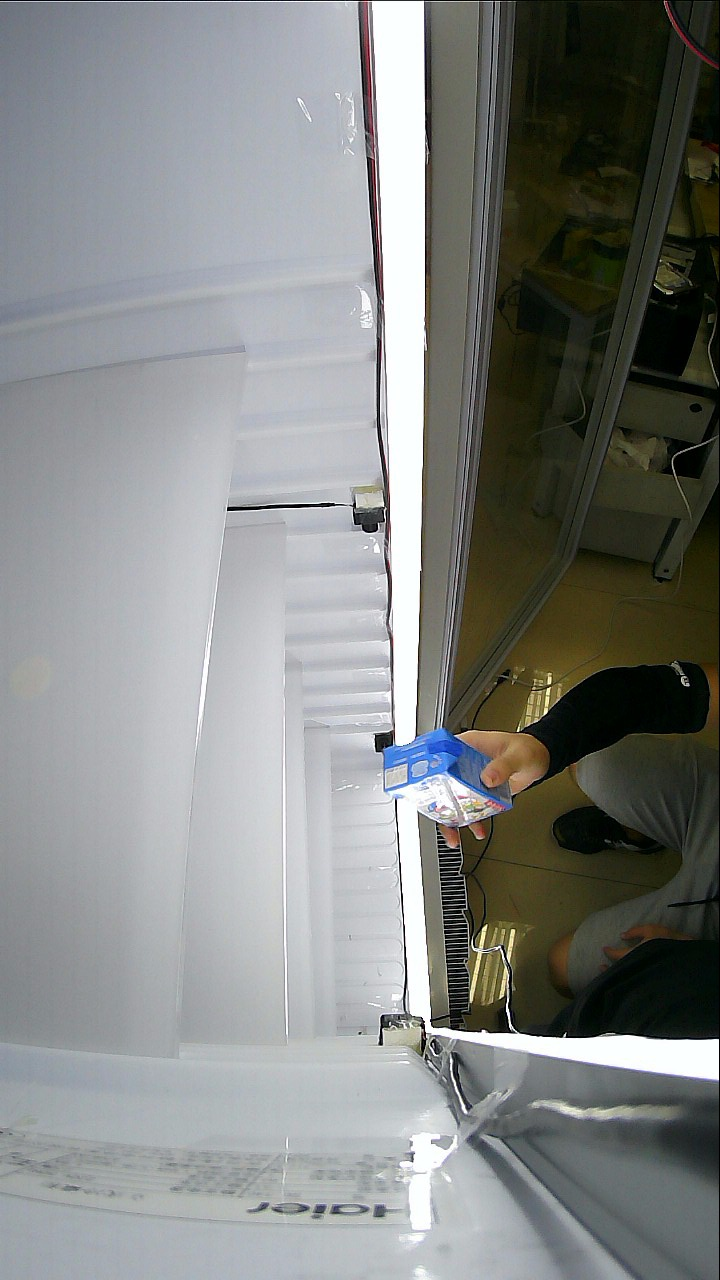VitaSoyOriginal: (387, 705, 562, 850)
